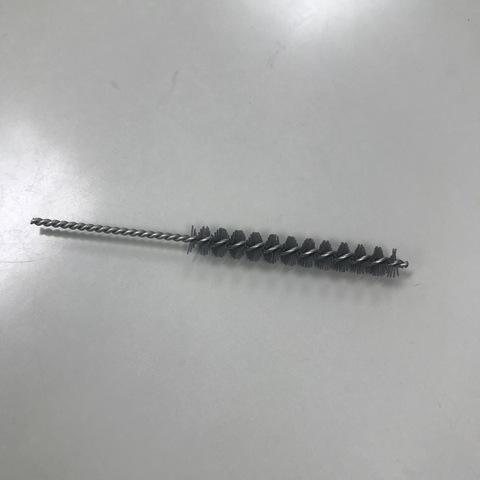Twist Brush-A: (28, 209, 411, 278)
